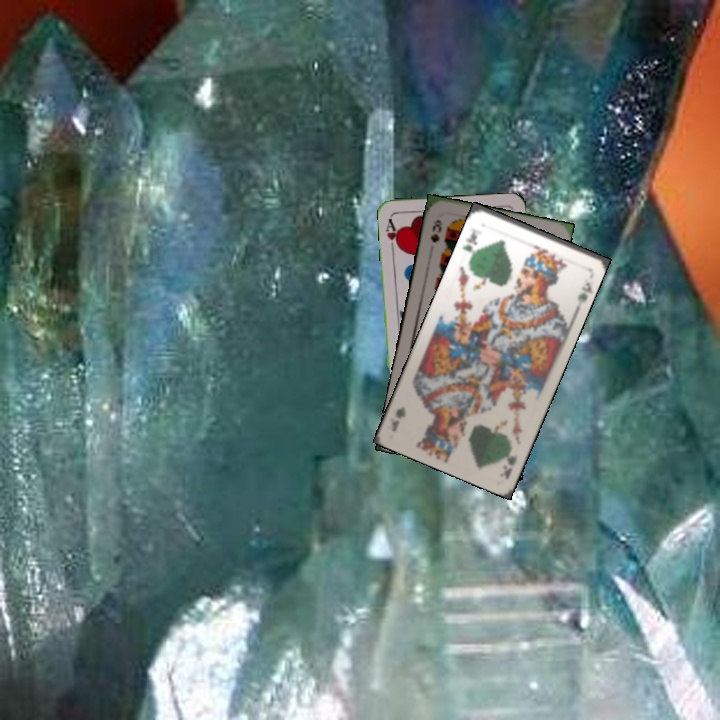GK: (459, 227, 480, 261), (496, 451, 519, 481)
HA: (382, 215, 402, 254)
S8: (426, 216, 445, 245)
